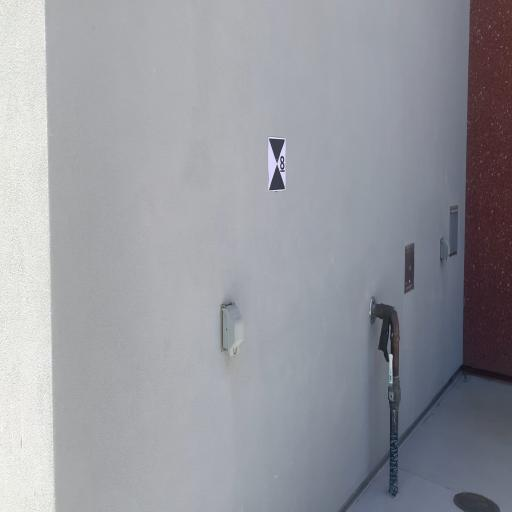target8: (268, 137, 286, 193)
